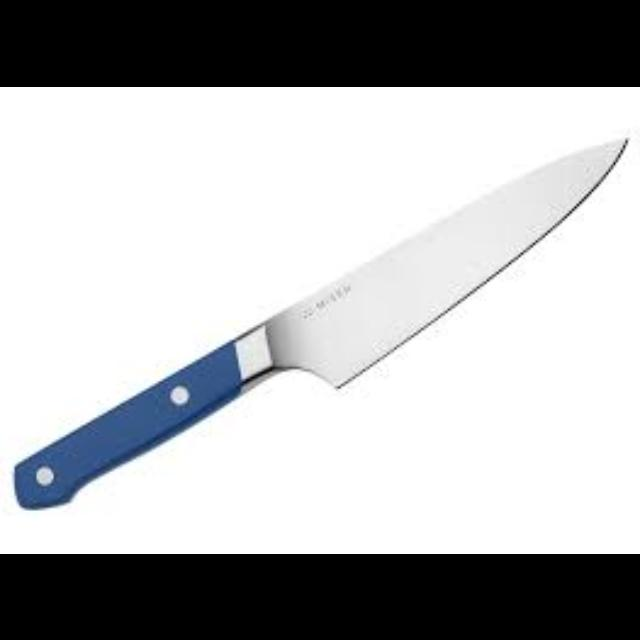knife: (12, 132, 630, 510)
